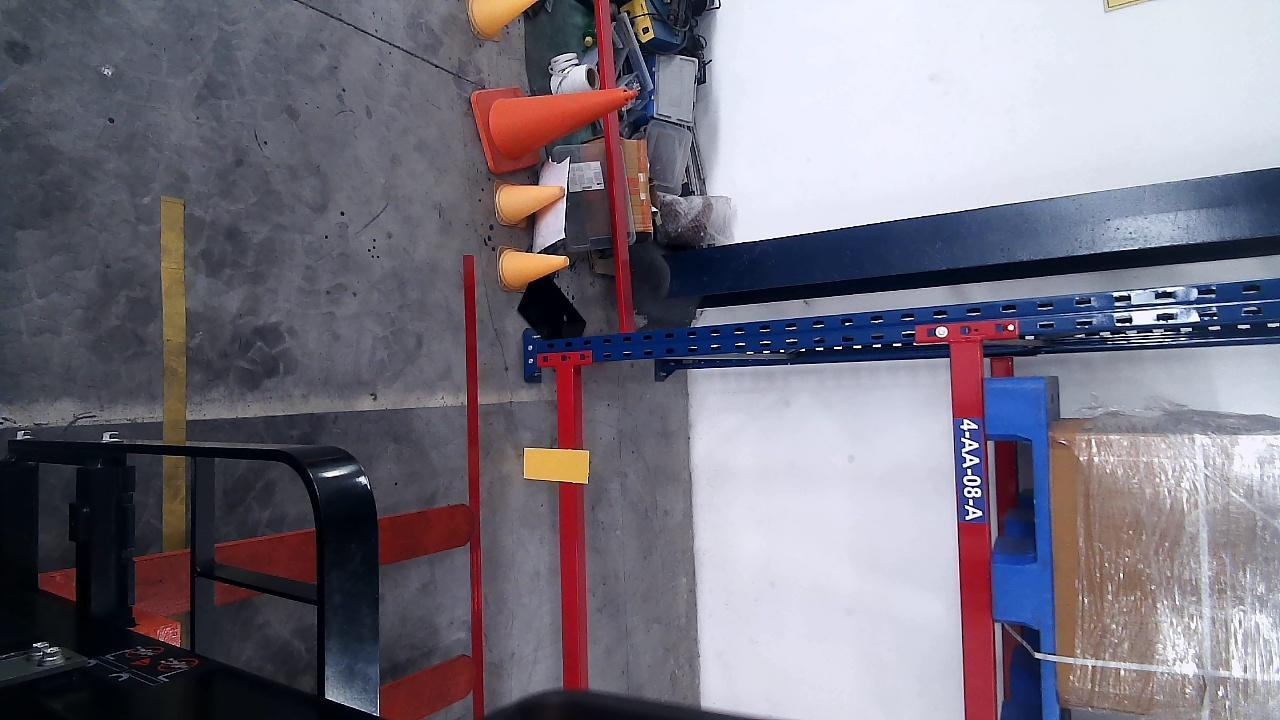h_rack: (950, 340, 997, 720), (554, 366, 587, 690)
orange_strip: (523, 446, 589, 484)
red_line: (463, 255, 485, 715)
small_pallet: (983, 380, 1059, 719)
yellow_line: (162, 196, 188, 549)
